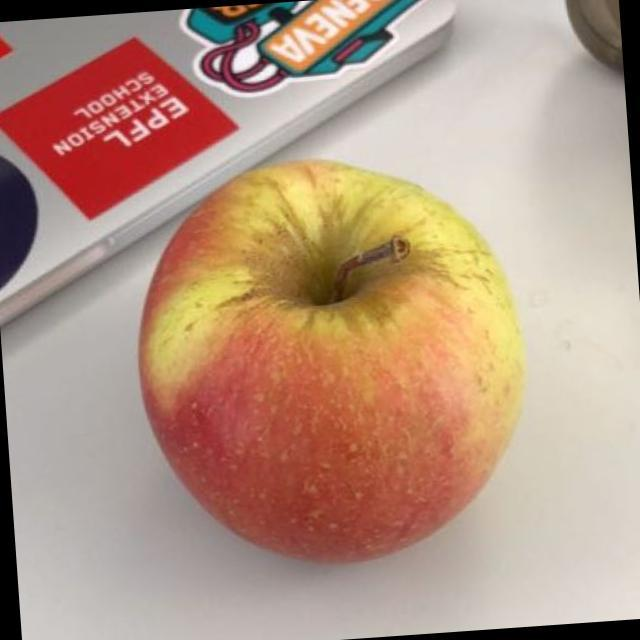Apple: (118, 129, 544, 586)
